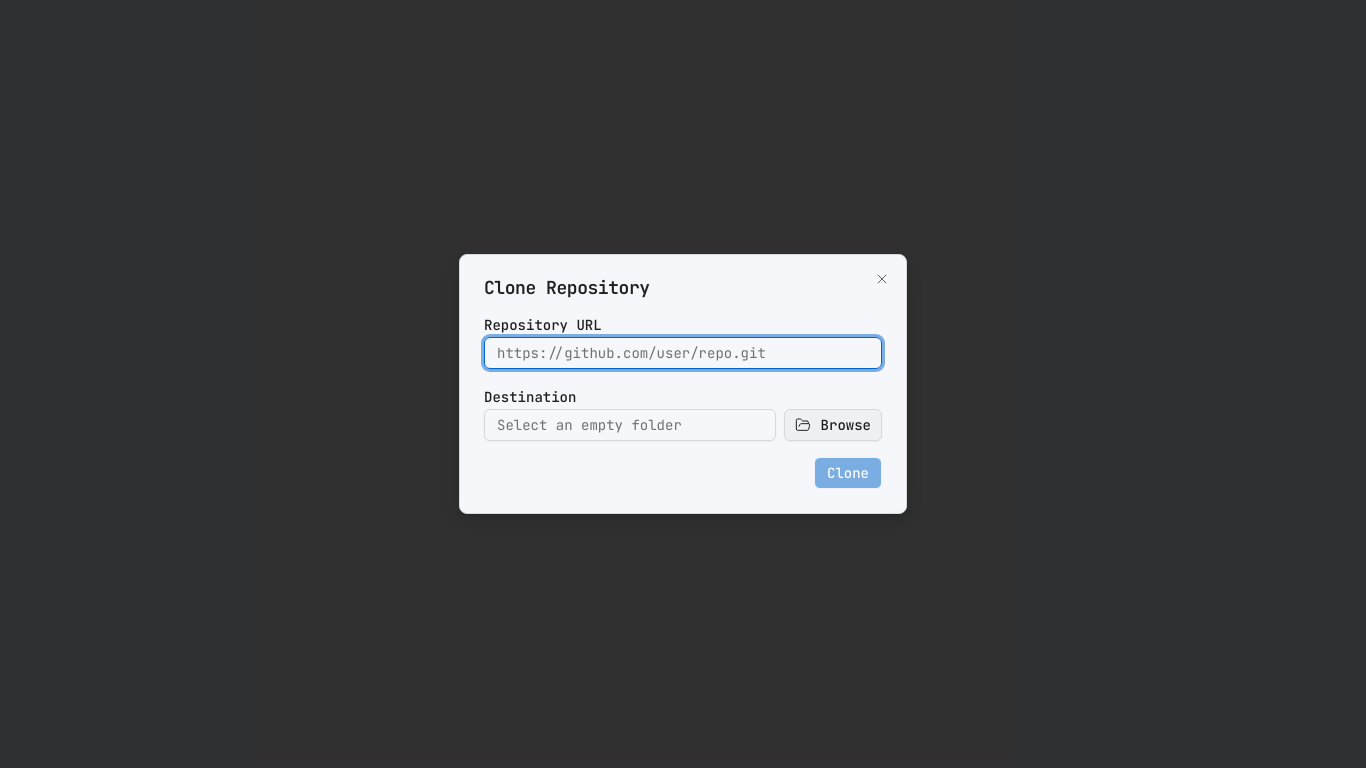
Scenario: GitCloneDialog stale completion › does not continue a credentials-pending clone after the dialog was closed
This screenshot has width=1366, height=768.
Click the button "Browse".
click(833, 425)  # box [784,409,882,441]
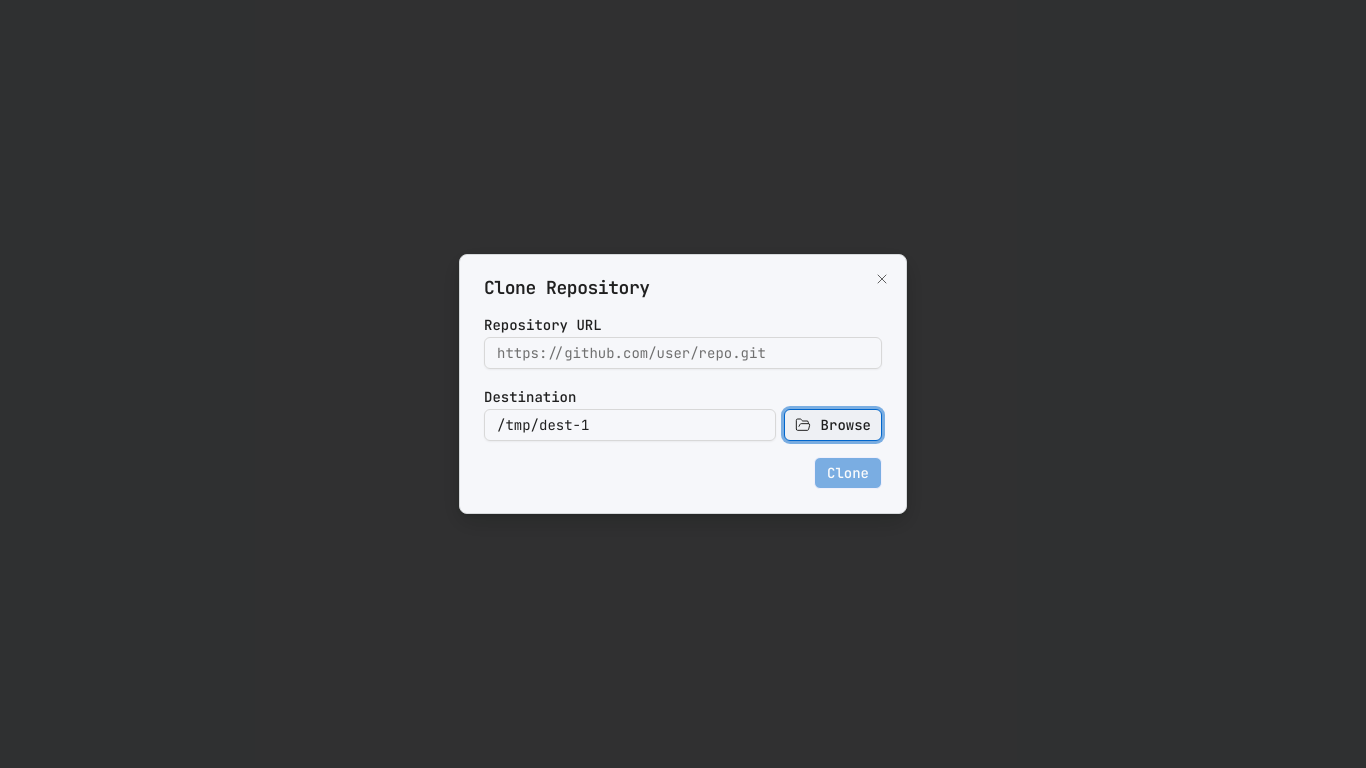
Type "https://example.com/repo.git" into the field with placeholder "https://github.com/user/repo.git".
click(683, 353); type("https://example.com/repo.git")  # box [484,337,882,369]
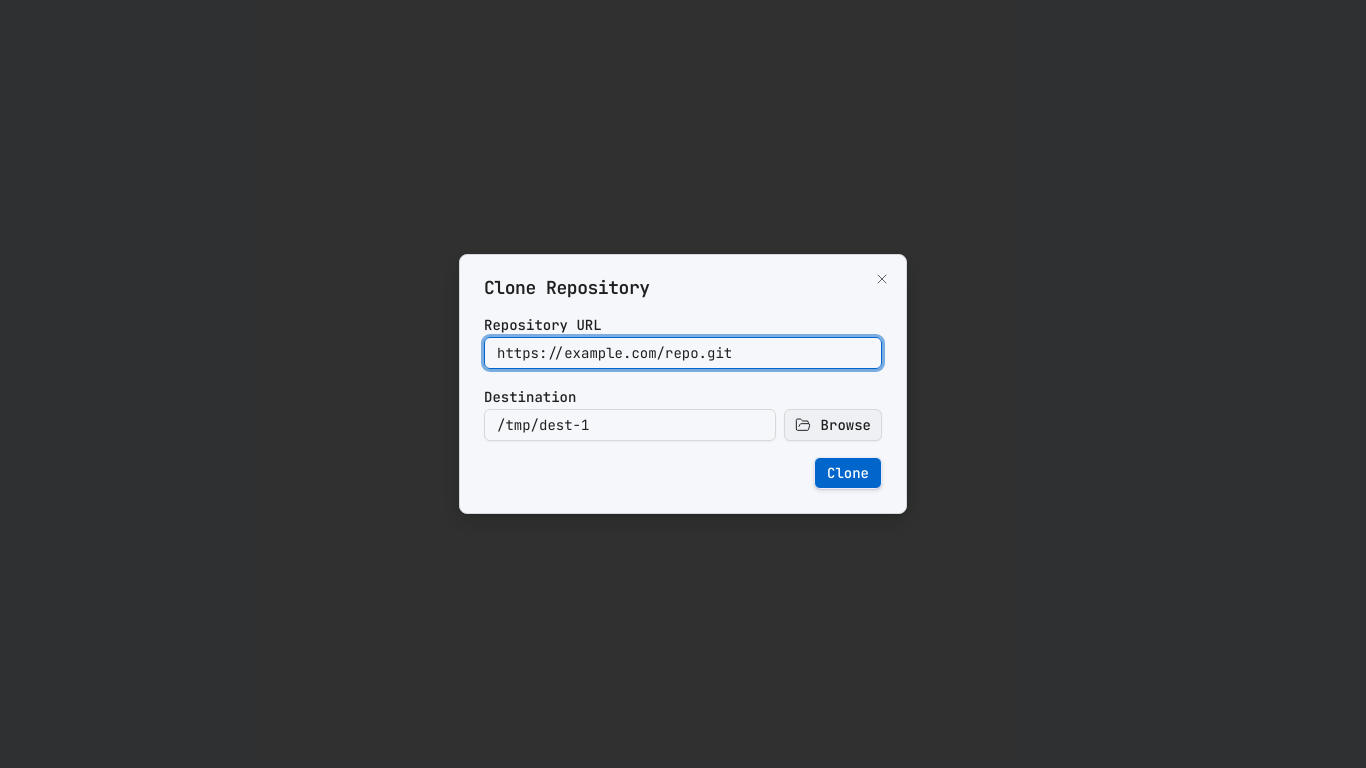
Click the button "Clone".
click(848, 473)  # box [814,457,882,489]
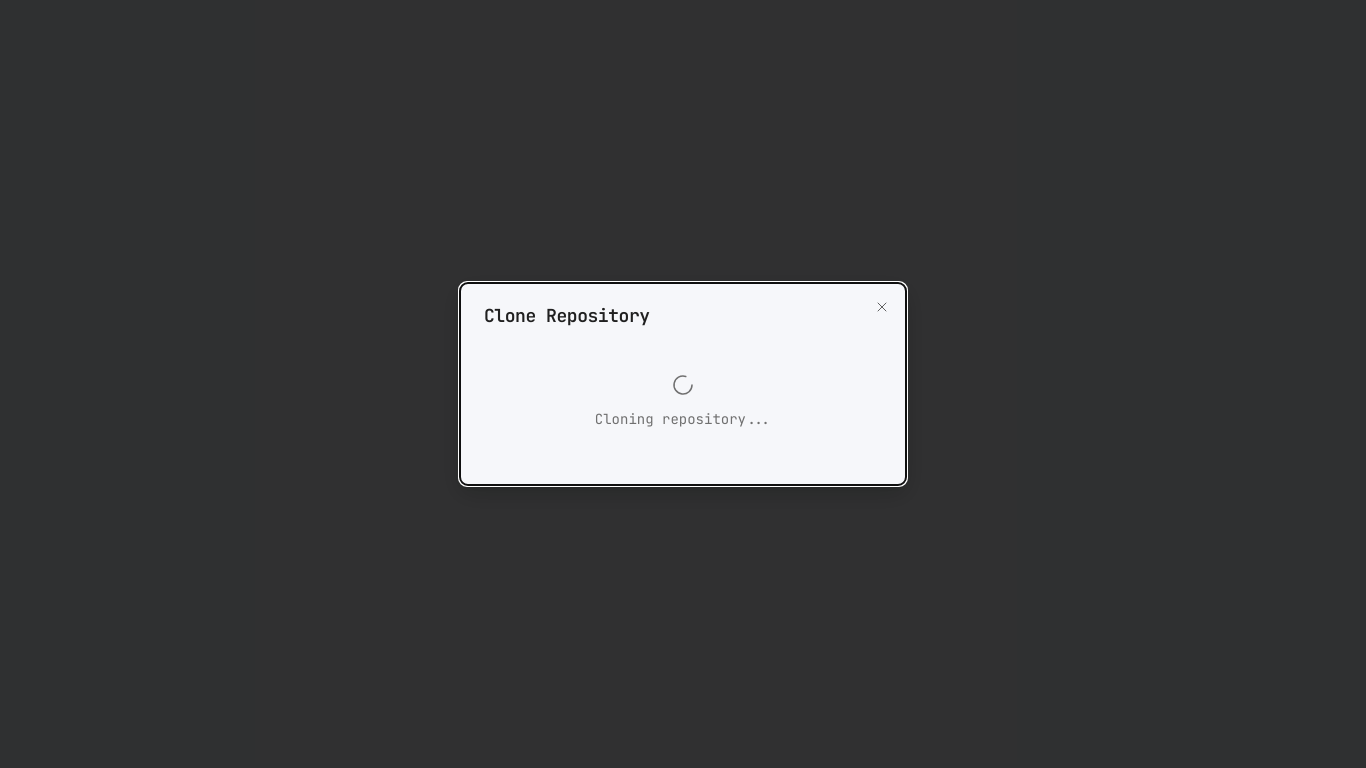
Expected: the text "Cloning repository..." is shown, [595,409,771,429]
